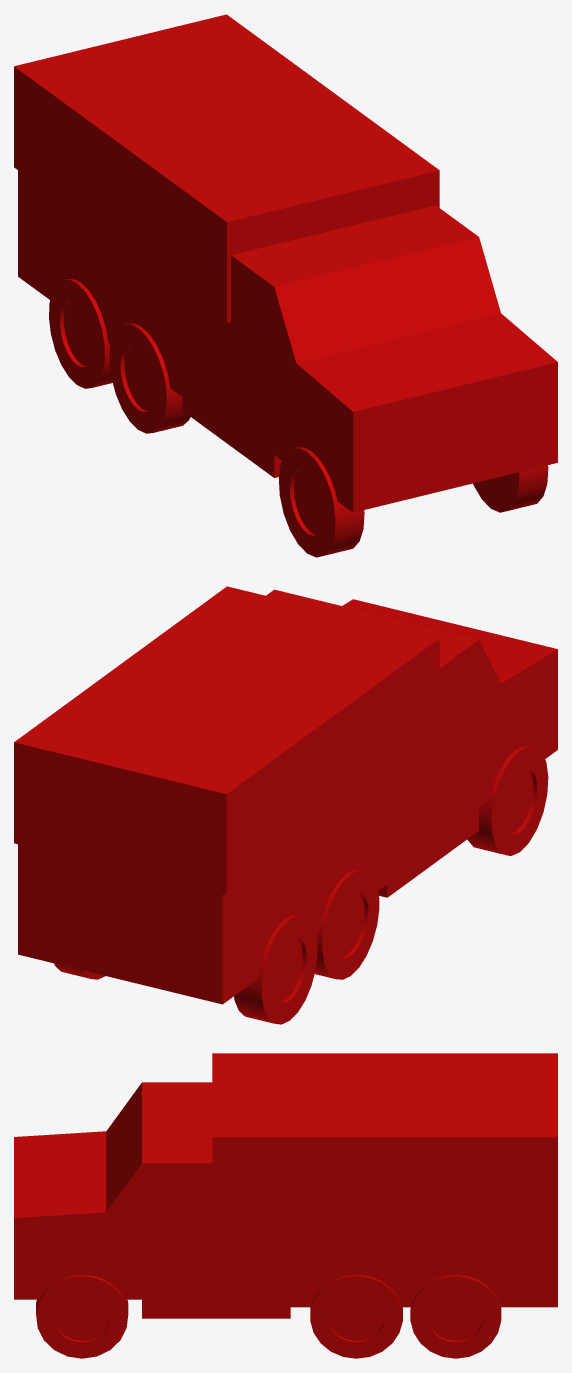
File: Boardgame_Piece_Military_Modern_Truck_Red_01.fbx
3 views of the same model, one above another, from view 1: azimuth 30°, elevation 25°; view 2: azimuth 150°, elevation 25°; view 3: azimuth 270°, elevation 25° (orthographic). The views are drawn at different scales.
Parts seen in each view (by area): view 1: Boardgame_Piece_Military_Modern_Truck_Red_01; view 2: Boardgame_Piece_Military_Modern_Truck_Red_01; view 3: Boardgame_Piece_Military_Modern_Truck_Red_01.
Boxes of the visible parts, x1,y1,x2,y2 form: Boardgame_Piece_Military_Modern_Truck_Red_01: (14,14,557,557); Boardgame_Piece_Military_Modern_Truck_Red_01: (14,586,557,1024); Boardgame_Piece_Military_Modern_Truck_Red_01: (14,1053,557,1358).
Size of the model in its own units: 25.31 by 31 by 69.09.
